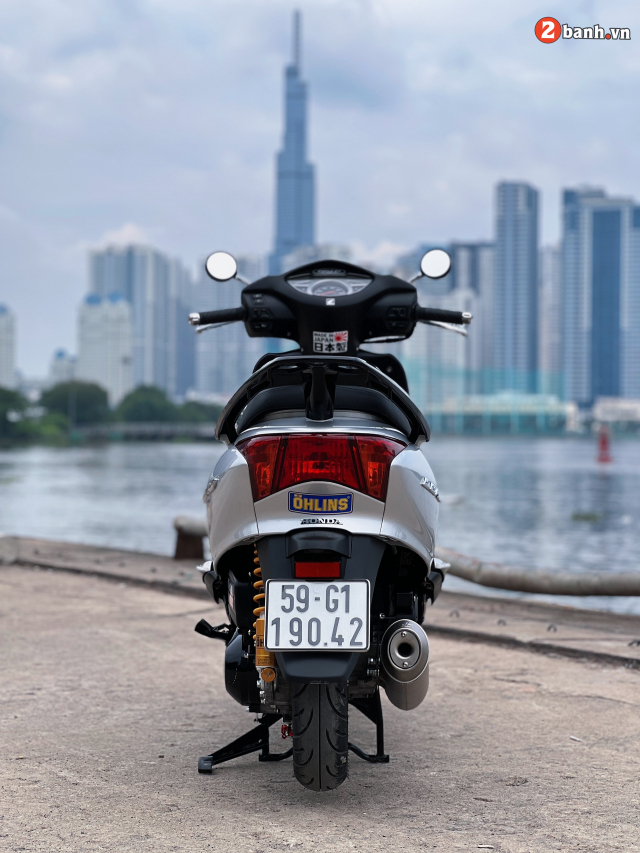bien_so: (260, 576, 375, 659)
